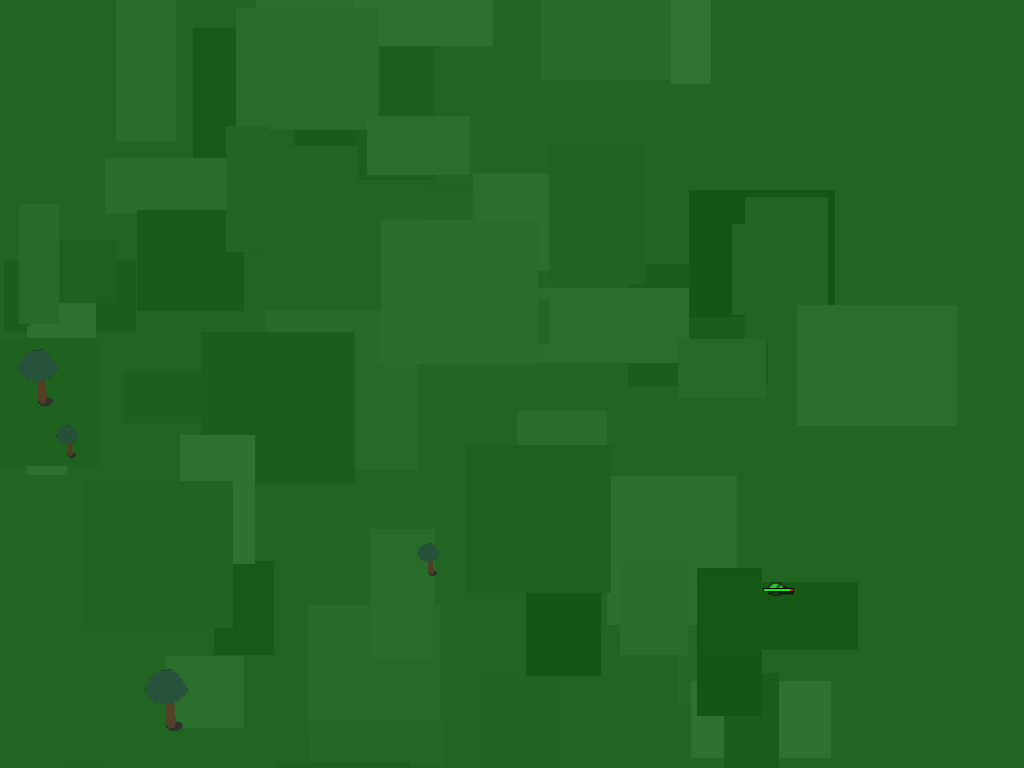Sniper: (759, 569, 796, 606)
